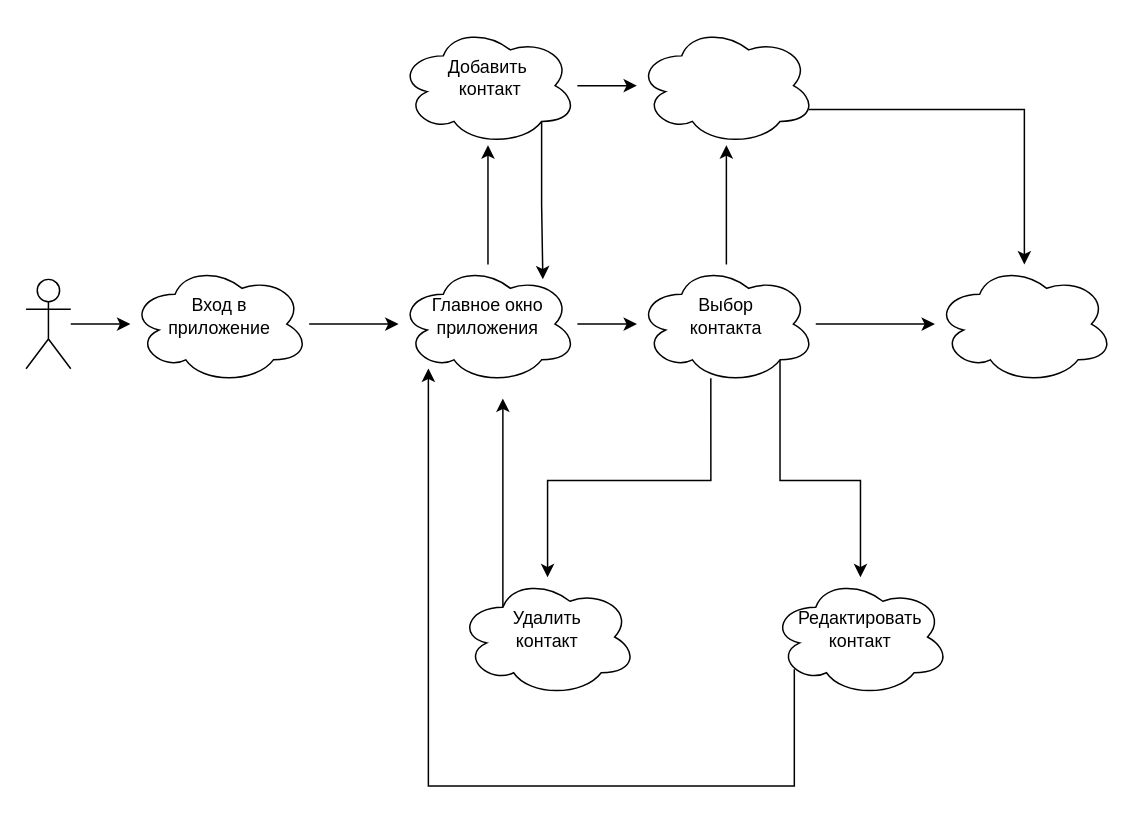
The diagram is 1140 pixels wide and 824 high, and some of its shapes have lost their labels. The shapes that lost their labels are listed below. From the top down, each one's centre as x and y in pixels, then its label:
(725,85): Посмотреть историю сообщений
(48,323): Actor
(1023,323): Написать сообщение
